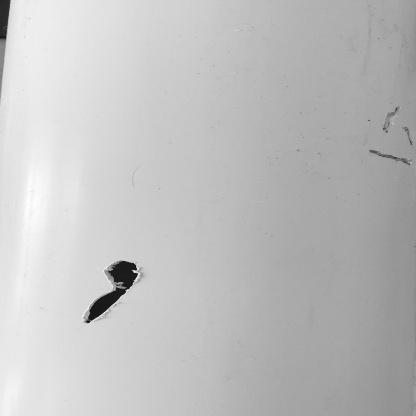kongdong: (73, 249, 144, 326)
sunshang: (367, 142, 414, 171), (380, 98, 413, 139)
